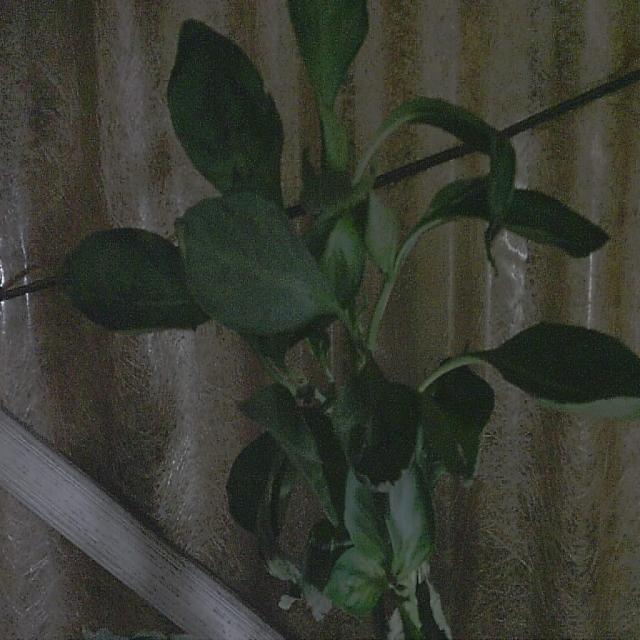Leaf: (174, 192, 334, 334), (167, 18, 284, 207), (55, 227, 212, 335), (482, 319, 640, 422), (331, 370, 423, 491)
